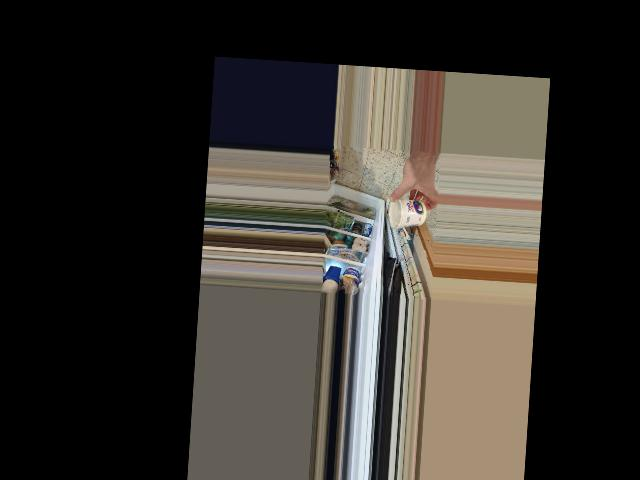cotage: (385, 189, 431, 232)
